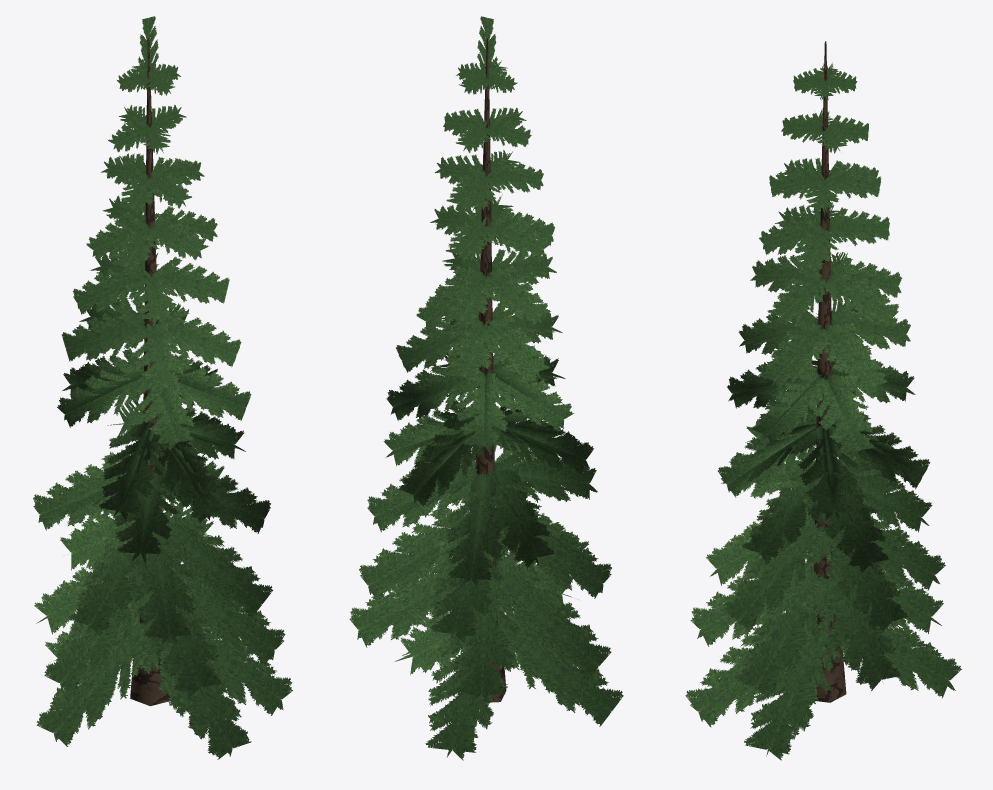
File: spruce0_lod1.fbx
The picture shows the model from 3 angles, left to right: view 1: azimuth 30°, elevation 25°; view 2: azimuth 150°, elevation 25°; view 3: azimuth 270°, elevation 25°; orthographic projection.
Parts seen in each view (by area): view 1: spruce0_lod1; view 2: spruce0_lod1; view 3: spruce0_lod1.
Boxes of the visible parts, <box> form: spruce0_lod1: <box>33,16,292,759</box>; spruce0_lod1: <box>349,16,623,760</box>; spruce0_lod1: <box>685,41,961,760</box>.
Size of the model in its own units: 6.82 by 17.81 by 7.02.
2 materials, 2 textured.
